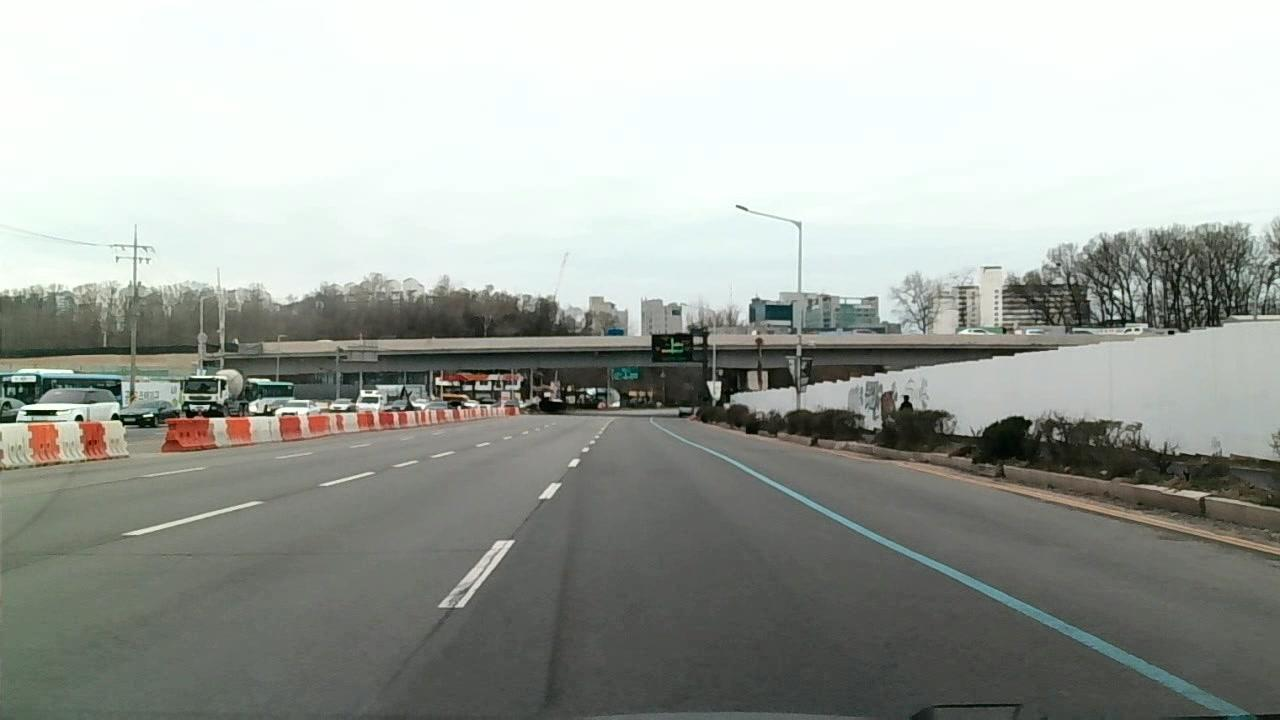banner: (461, 535, 518, 595), (398, 606, 453, 660), (514, 495, 549, 530), (556, 467, 571, 482)
